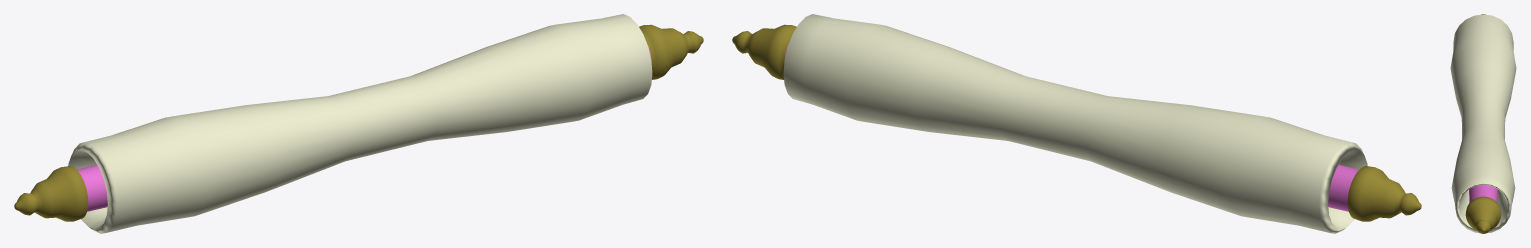
The model's file is parchemin.fbx.
3 views of the same model, side by side, from view 1: azimuth 30°, elevation 25°; view 2: azimuth 150°, elevation 25°; view 3: azimuth 270°, elevation 25° (orthographic). The views are drawn at different scales.
Visible parts, largest first — view 1: group2_pCylinder2; view 2: group2_pCylinder2; view 3: group2_pCylinder2.
Part boxes in pixels (x1,y1,x2,y2): group2_pCylinder2: (14,14,703,233); group2_pCylinder2: (732,14,1421,233); group2_pCylinder2: (1450,14,1516,233).
Bounding box in the file's own units: 3.84 × 0.5002 × 0.5002.
